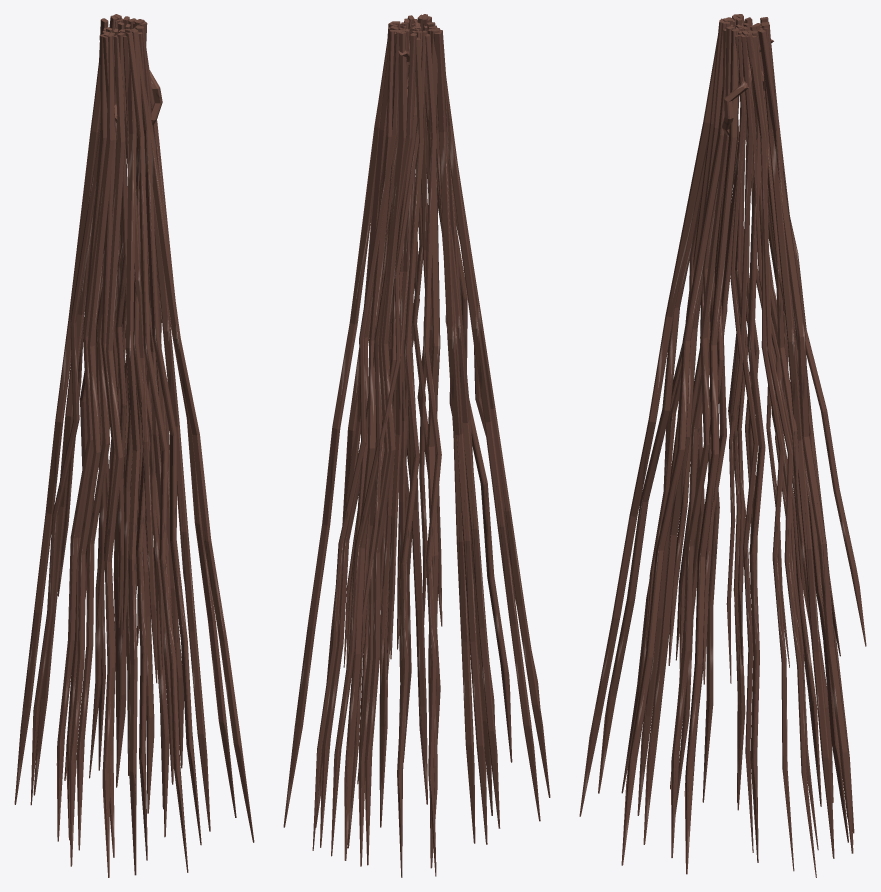
The picture shows the model from 3 angles, left to right: view 1: azimuth 30°, elevation 25°; view 2: azimuth 150°, elevation 25°; view 3: azimuth 270°, elevation 25°; orthographic projection. The views are drawn at different scales.
Parts seen in each view (by area): view 1: Cube.085; view 2: Cube.085; view 3: Cube.085.
Boxes of the visible parts, x1,y1,x2,y2 form: Cube.085: (14,14,254,877); Cube.085: (283,14,550,877); Cube.085: (579,14,866,877).
Bounding box in the file's own units: 1773 × 7427 × 2359.
48 materials, 48 textured.
